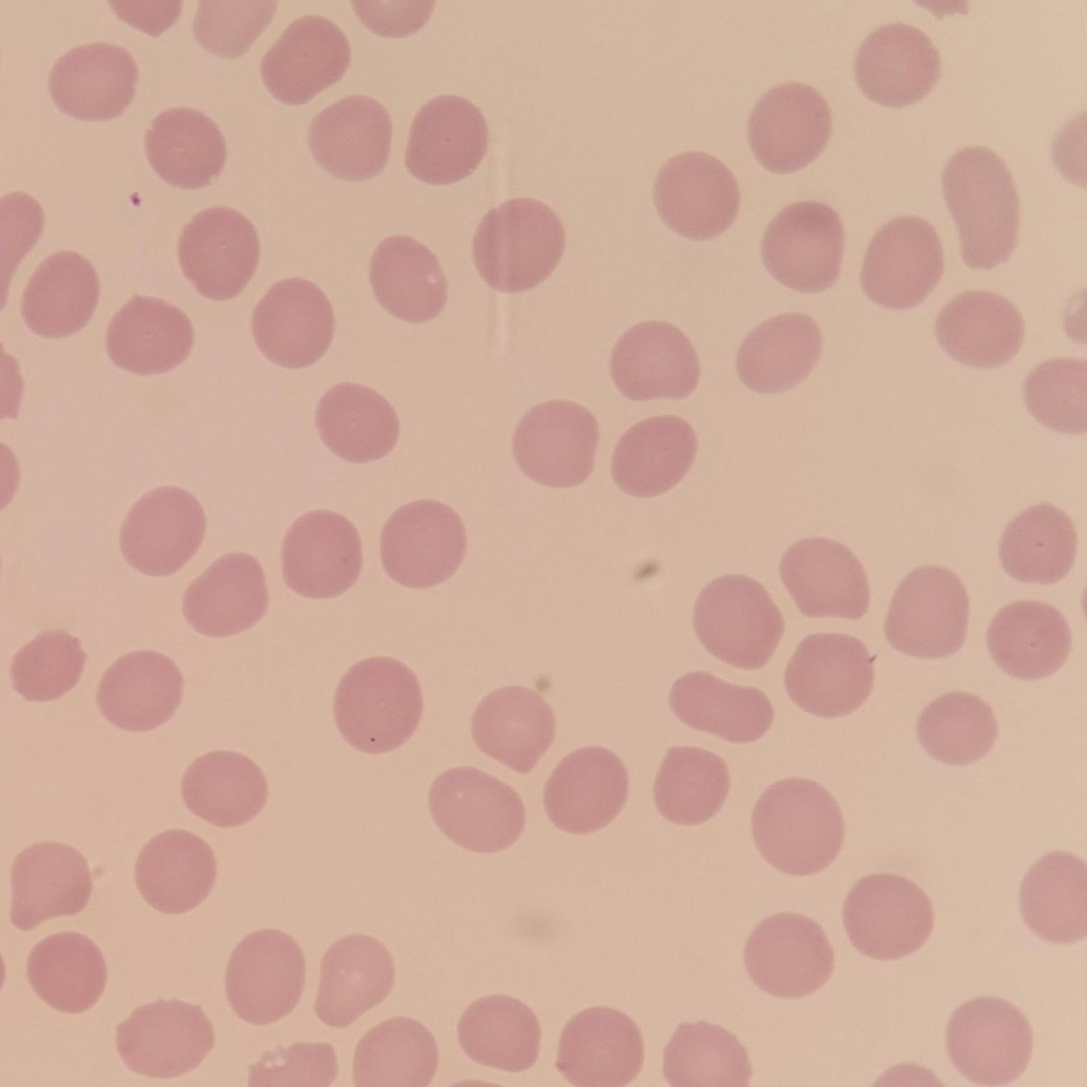Uninfected: (942, 145, 1022, 269), (749, 777, 845, 875), (332, 656, 424, 754), (426, 765, 524, 853), (474, 198, 566, 291), (691, 574, 782, 668), (882, 565, 971, 659), (222, 927, 308, 1024), (118, 485, 208, 577), (782, 632, 876, 718), (261, 16, 352, 104), (175, 205, 261, 298), (777, 536, 870, 622), (115, 997, 212, 1078), (379, 499, 467, 588), (842, 873, 932, 960), (743, 912, 835, 997), (9, 840, 94, 932), (313, 933, 396, 1027), (668, 669, 769, 746), (509, 403, 599, 489), (280, 509, 365, 600), (747, 82, 833, 171), (251, 277, 336, 367), (652, 151, 739, 238), (307, 94, 394, 181), (760, 200, 846, 288), (133, 828, 219, 916), (404, 94, 489, 183), (542, 747, 627, 835), (861, 216, 944, 306), (105, 293, 196, 375), (470, 685, 555, 772), (182, 553, 270, 637), (610, 318, 699, 401), (855, 22, 941, 107), (946, 997, 1030, 1084), (97, 649, 185, 732), (20, 249, 101, 339), (315, 379, 401, 463), (734, 313, 823, 394), (933, 288, 1022, 369), (553, 1007, 643, 1087), (612, 414, 698, 497), (369, 234, 450, 322), (48, 41, 136, 121), (986, 600, 1071, 682), (180, 749, 268, 828), (145, 106, 228, 189), (24, 931, 107, 1014), (997, 502, 1078, 586), (456, 994, 542, 1073), (1017, 850, 1087, 944), (653, 745, 734, 826), (915, 691, 997, 767), (354, 1017, 437, 1086), (10, 628, 87, 702), (1022, 357, 1086, 432)
